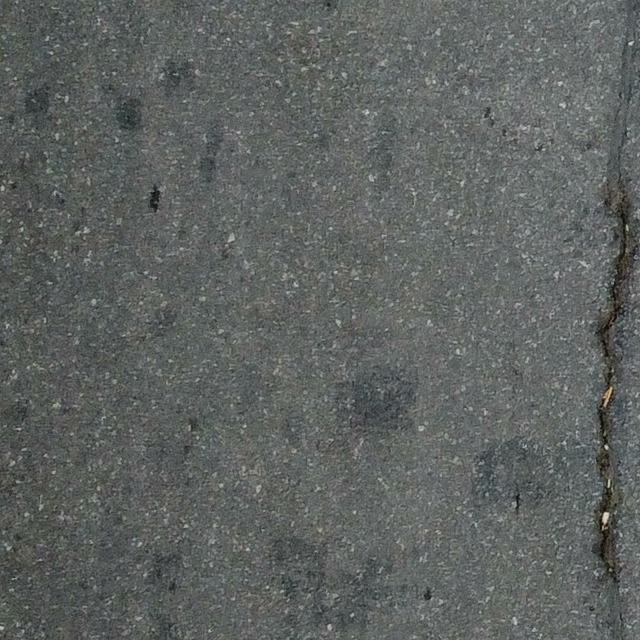LongitudinalCrack: (592, 1, 640, 585)
